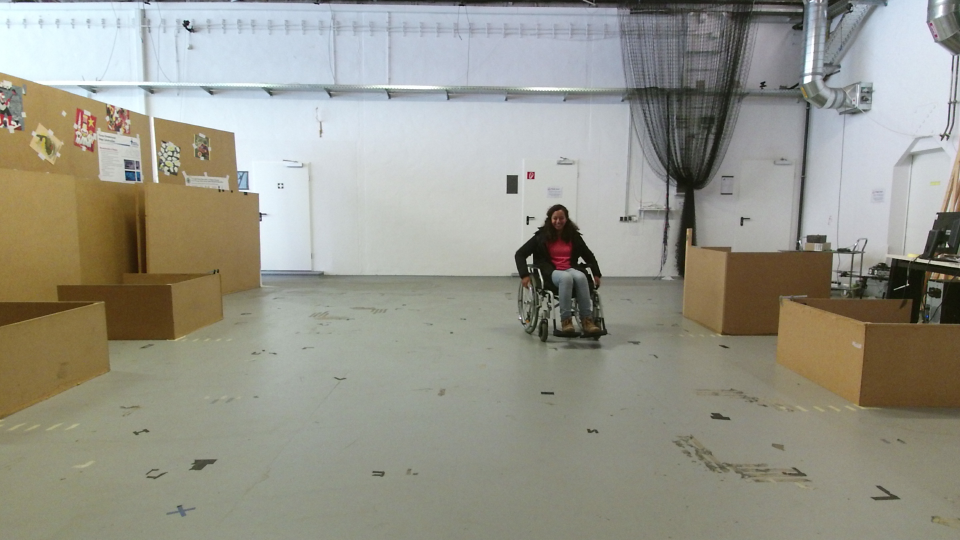wheelchair: (510, 201, 610, 344)
